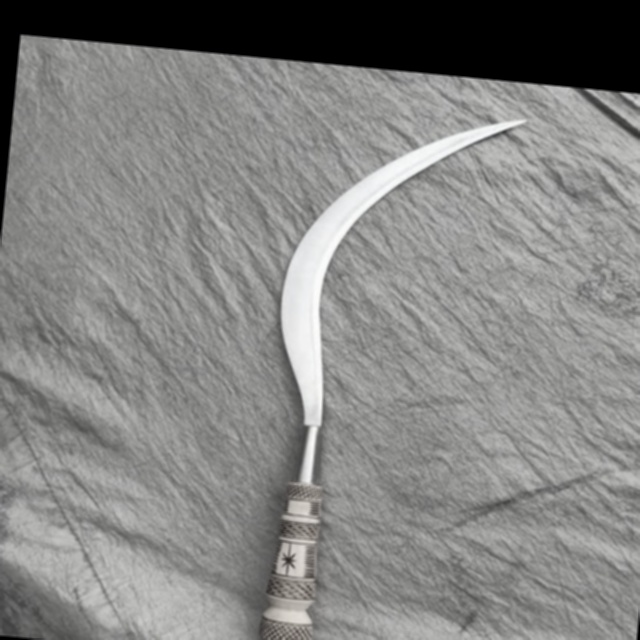Sharp-Object: (227, 88, 535, 640)
